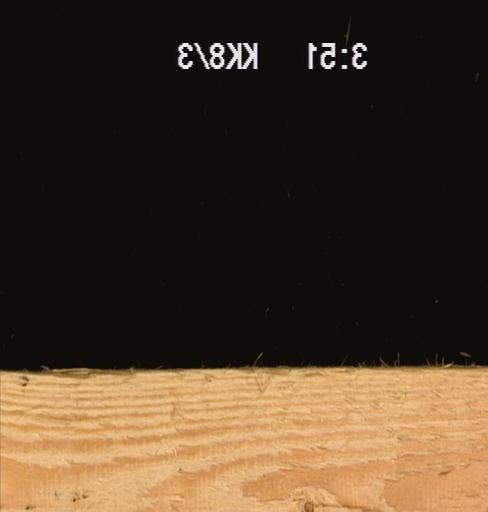edge_knot: (303, 498, 316, 511)
